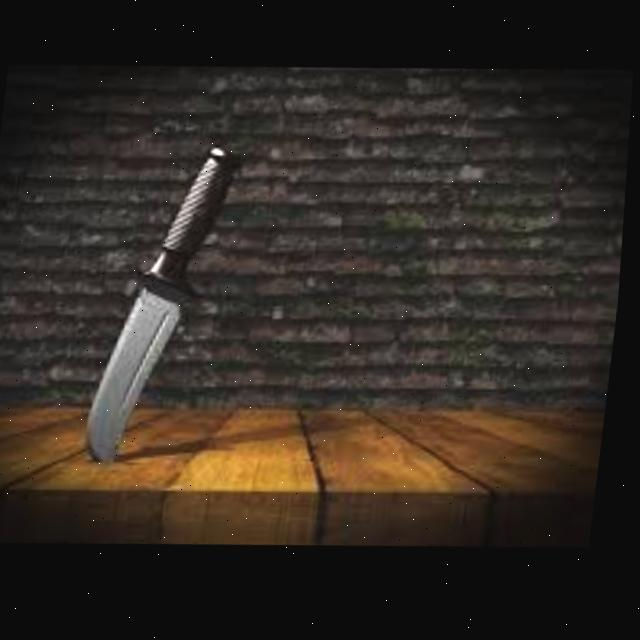Knife: (87, 138, 245, 469)
